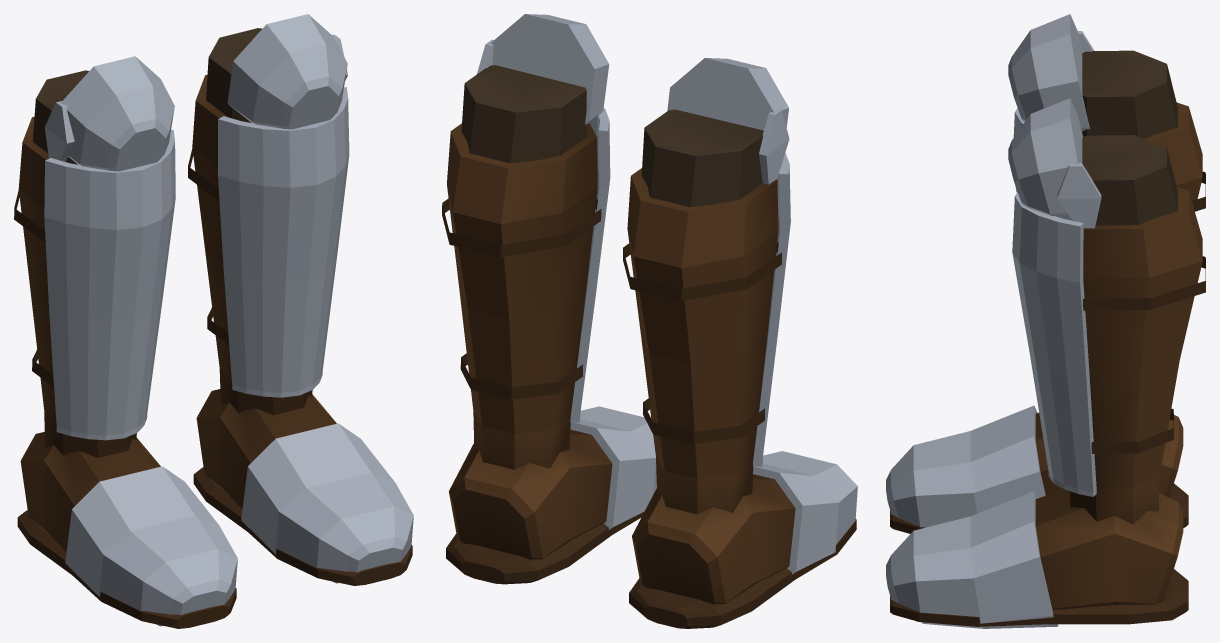
The model's file is f_plated_f.glb.
3 renders of one model, left to right at view 1: azimuth 30°, elevation 25°; view 2: azimuth 150°, elevation 25°; view 3: azimuth 270°, elevation 25°, orthographic. The views are drawn at different scales.
Visible parts, largest first — view 1: LegR_Boot, LegL_Boot, LegR_BootFoot, LegL_BootFoot, LegL_Shin, LegR_Shin; view 2: LegR_Boot, LegL_Boot, LegR_BootFoot, LegL_BootFoot, LegL_Shin, LegR_Shin; view 3: LegL_Boot, LegL_BootFoot, LegR_BootFoot, LegR_Boot, LegR_Shin, LegL_Shin.
Part boxes in pixels (x1=…): LegR_Boot: x1=14, y1=56, x2=175, y2=457; LegL_Boot: x1=188, y1=14, x2=349, y2=415; LegR_BootFoot: x1=17, y1=432, x2=237, y2=628; LegL_BootFoot: x1=193, y1=389, x2=413, y2=585; LegL_Shin: x1=206, y1=28, x2=261, y2=122; LegR_Shin: x1=33, y1=70, x2=88, y2=163; LegR_Boot: x1=623, y1=58, x2=790, y2=514; LegL_Boot: x1=442, y1=14, x2=610, y2=469; LegR_BootFoot: x1=629, y1=451, x2=857, y2=628; LegL_BootFoot: x1=446, y1=406, x2=656, y2=584; LegL_Shin: x1=461, y1=65, x2=586, y2=163; LegR_Shin: x1=641, y1=109, x2=763, y2=207; LegL_Boot: x1=1008, y1=98, x2=1205, y2=524; LegL_BootFoot: x1=886, y1=489, x2=1188, y2=628; LegR_BootFoot: x1=886, y1=405, x2=1188, y2=533; LegR_Boot: x1=1008, y1=14, x2=1205, y2=211; LegR_Shin: x1=1082, y1=50, x2=1177, y2=138; LegL_Shin: x1=1082, y1=135, x2=1177, y2=225.
Bounding box in the file's own units: 0.3592 × 0.5731 × 0.3294.
